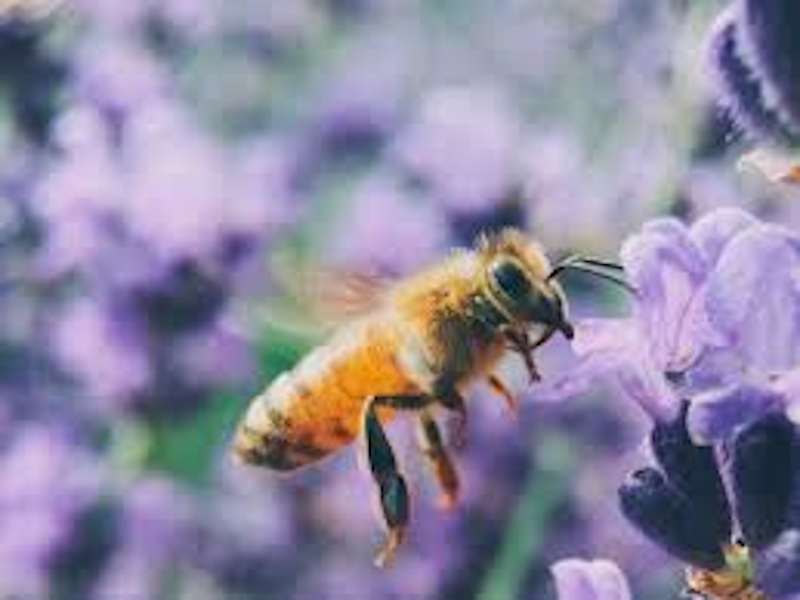abeja: (188, 200, 654, 570)
